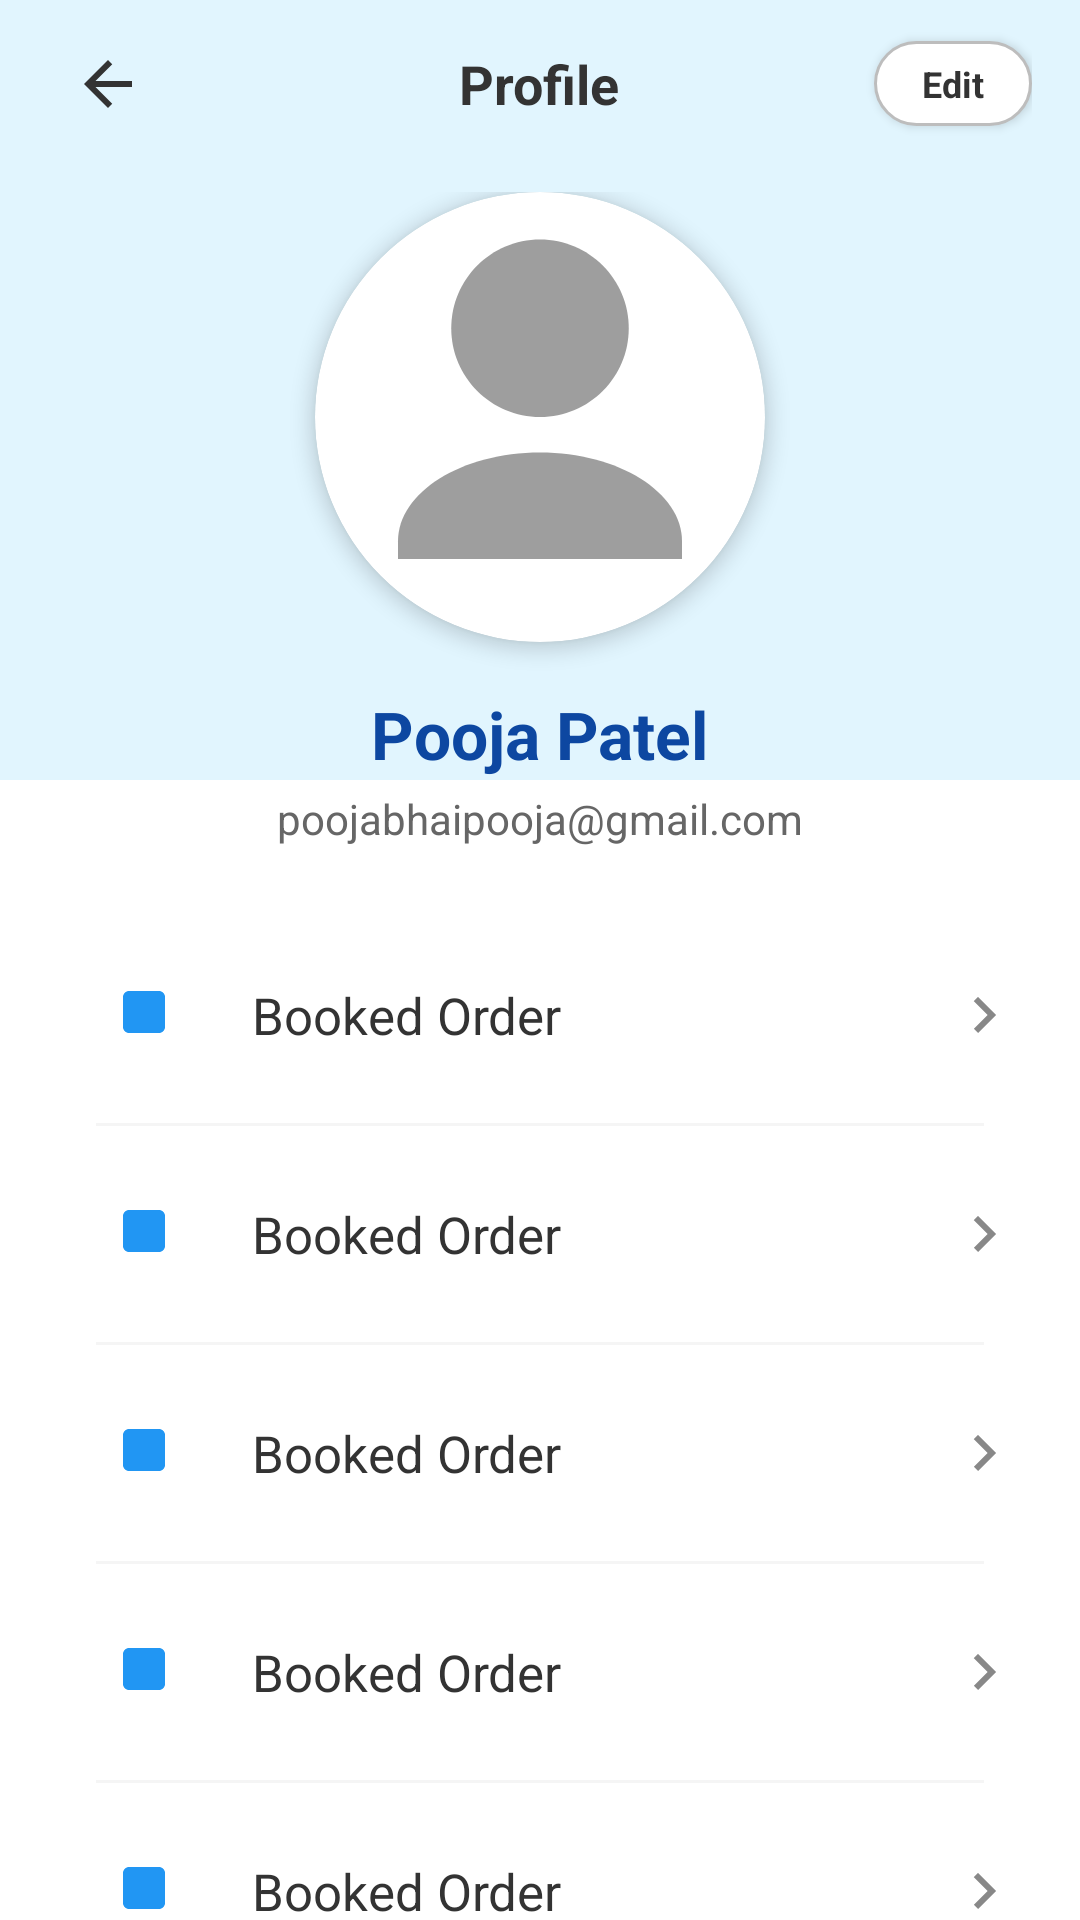

Icons on this 1080 x 1920 Android screen, each with the point to tap as (x,y):
back: (108,84)
chevron right: (985,1015), (985,1234), (985,1453), (985,1672), (985,1891)
